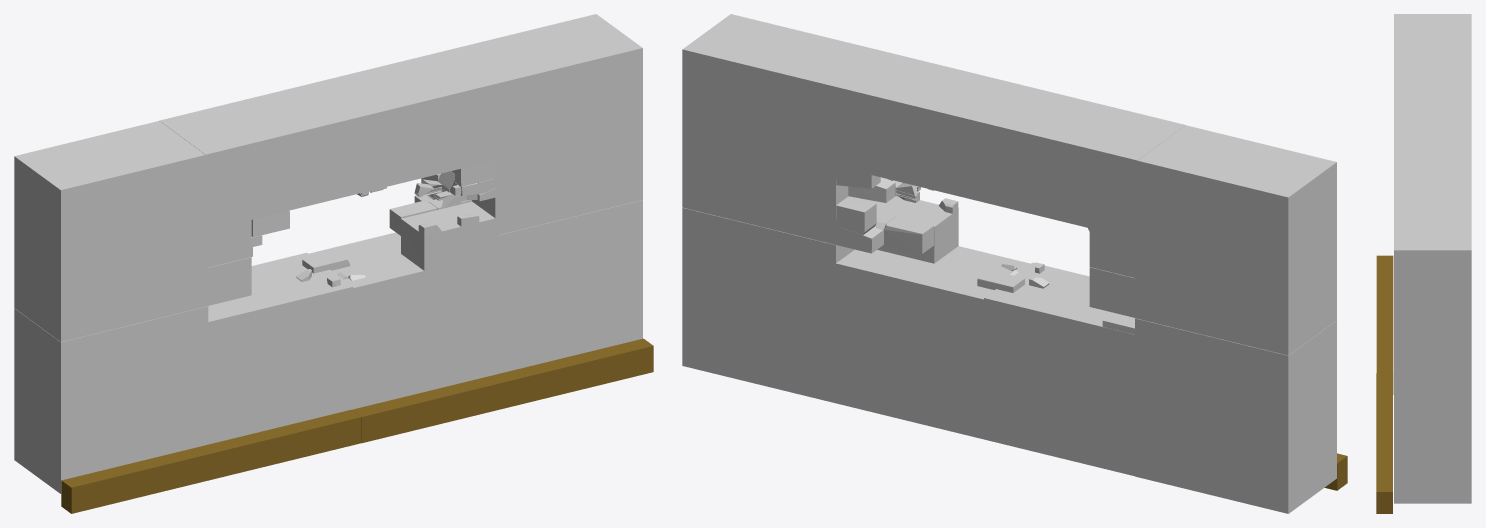
The model's file is Murobello2OK.fbx.
3 views of the same model, side by side, from view 1: azimuth 30°, elevation 25°; view 2: azimuth 150°, elevation 25°; view 3: azimuth 270°, elevation 25° (orthographic). The views are drawn at different scales.
Parts seen in each view (by area): view 1: Cube.015, Cube.020, Cube.019, Cube.016, Cube.003, Cube.010, Cube.007, Cube.001, Cube.014, Cube.011, Cube.012, Cube.005 (+12 smaller); view 2: Cube.015, Cube.020, Cube.019, Cube.016, Cube.011, Cube.003, Cube.007, Cube.001, Cube.010, Cube.014, Cube.012, Cube.005 (+10 smaller); view 3: Cube.020, Cube.005, Cube.014, Cube.012, Cube.016, Cube.019, Cube.015, Cube.017, Cube.018, Cube.006, Cube.013.
Boxes of the visible parts, x1,y1,x2,y2 form: Cube.015: (14, 121, 207, 266); Cube.020: (449, 14, 642, 160); Cube.019: (304, 50, 495, 195); Cube.016: (159, 85, 350, 230); Cube.003: (14, 306, 208, 418); Cube.010: (205, 252, 353, 398); Cube.007: (14, 232, 207, 341); Cube.001: (14, 383, 205, 493); Cube.014: (472, 124, 642, 235); Cube.011: (308, 232, 495, 346); Cube.012: (495, 200, 642, 312); Cube.005: (495, 276, 642, 374); Cube.015: (1135, 125, 1336, 276); Cube.020: (682, 14, 883, 165); Cube.019: (833, 51, 1034, 202); Cube.016: (984, 88, 1185, 239); Cube.011: (833, 246, 1030, 378); Cube.003: (1135, 318, 1336, 435); Cube.007: (1135, 239, 1336, 355); Cube.001: (1135, 397, 1336, 513); Cube.010: (984, 262, 1134, 410); Cube.014: (682, 128, 848, 244); Cube.012: (682, 207, 854, 323); Cube.005: (682, 287, 833, 402); Cube.020: (1394, 190, 1471, 313); Cube.005: (1394, 440, 1471, 503); Cube.014: (1394, 313, 1471, 376); Cube.012: (1394, 377, 1471, 440); Cube.016: (1394, 72, 1471, 131); Cube.019: (1394, 131, 1471, 190); Cube.015: (1394, 14, 1471, 72); Cube.017: (1376, 432, 1392, 513); Cube.018: (1376, 255, 1393, 315); Cube.006: (1376, 315, 1393, 394); Cube.013: (1376, 373, 1392, 433).
Size of the model in its own units: 428 by 222 by 72.8.
